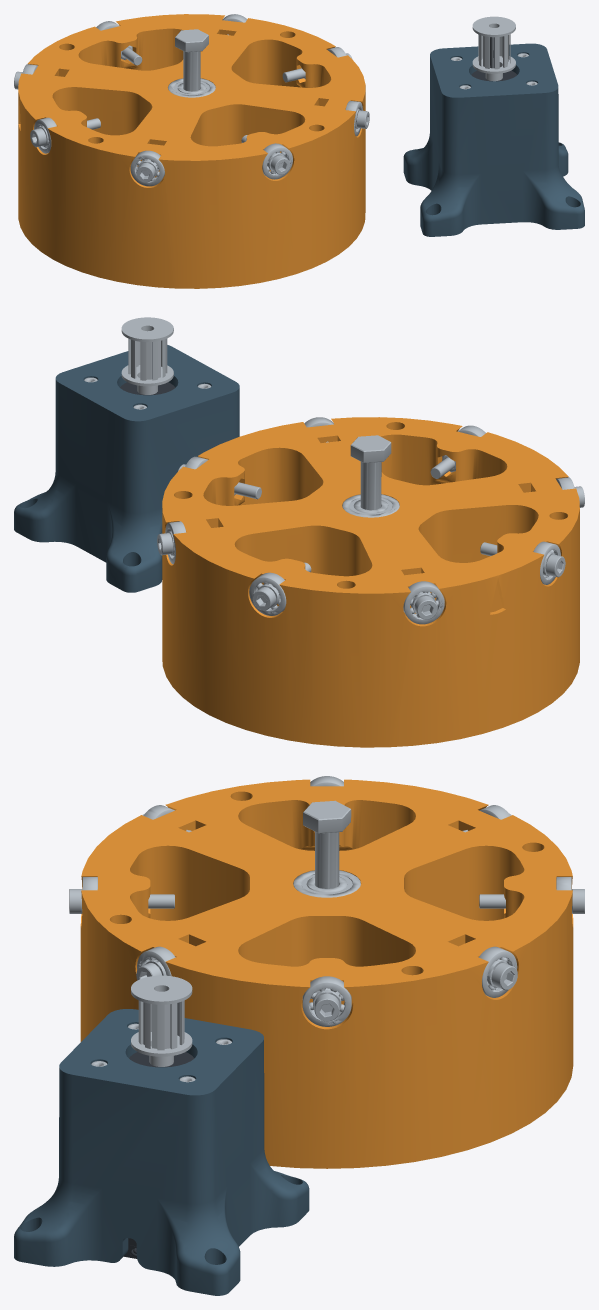
File: rotary_base_LOD0.fbx
3 renders of one model, top to bottom at view 1: azimuth 30°, elevation 25°; view 2: azimuth 150°, elevation 25°; view 3: azimuth 270°, elevation 25°, orthographic. The views are drawn at different scales.
Parts seen in each view (by area): view 1: MM_moveo_1m2a_8d0764d7ee, MM_moveo_1m3a_de6043b10f, MM_moveo_pulley_m5_34409c2623, MM_moveo_m8x65_af011daf64, MM_moveo_bearing_5mm_86ee2f6a5f, MM_moveo_bearing_5mm_d0635e659c, MM_moveo_8mm_bearing_3b9123d0f2, MM_moveo_m5x20_8f747c12b8, MM_moveo_nema_17_llarg_e19a1550cd, MM_moveo_bearing_5mm_4fff6ffe33; view 2: MM_moveo_1m2a_8d0764d7ee, MM_moveo_1m3a_de6043b10f, MM_moveo_pulley_m5_34409c2623, MM_moveo_m8x65_af011daf64, MM_moveo_bearing_5mm_0211c7ef3f, MM_moveo_bearing_5mm_f619cc72e2, MM_moveo_8mm_bearing_3b9123d0f2, MM_moveo_m5x20_8f747c12b8; view 3: MM_moveo_1m2a_8d0764d7ee, MM_moveo_1m3a_de6043b10f, MM_moveo_pulley_m5_34409c2623, MM_moveo_m8x65_af011daf64, MM_moveo_bearing_5mm_d355e518e5, MM_moveo_8mm_bearing_3b9123d0f2, MM_moveo_bearing_5mm_2abf87f7bf, MM_moveo_m5x20_bbadcfc89c, MM_moveo_m5x20_b5da2a3155.
Part boxes in pixels (x1,y1,x2,y2): MM_moveo_1m2a_8d0764d7ee: [18, 14, 365, 288]; MM_moveo_1m3a_de6043b10f: [403, 43, 584, 236]; MM_moveo_pulley_m5_34409c2623: [472, 16, 515, 81]; MM_moveo_m8x65_af011daf64: [175, 29, 208, 91]; MM_moveo_bearing_5mm_86ee2f6a5f: [130, 150, 164, 186]; MM_moveo_bearing_5mm_d0635e659c: [262, 143, 292, 179]; MM_moveo_8mm_bearing_3b9123d0f2: [168, 78, 215, 97]; MM_moveo_m5x20_8f747c12b8: [30, 118, 100, 147]; MM_moveo_nema_17_llarg_e19a1550cd: [471, 37, 516, 81]; MM_moveo_bearing_5mm_4fff6ffe33: [34, 117, 56, 153]; MM_moveo_1m2a_8d0764d7ee: [162, 417, 579, 747]; MM_moveo_1m3a_de6043b10f: [14, 345, 239, 592]; MM_moveo_pulley_m5_34409c2623: [121, 317, 173, 394]; MM_moveo_m8x65_af011daf64: [350, 435, 391, 510]; MM_moveo_bearing_5mm_0211c7ef3f: [403, 581, 444, 624]; MM_moveo_bearing_5mm_f619cc72e2: [249, 572, 286, 615]; MM_moveo_8mm_bearing_3b9123d0f2: [342, 494, 399, 517]; MM_moveo_m5x20_8f747c12b8: [480, 542, 565, 577]; MM_moveo_1m2a_8d0764d7ee: [80, 779, 573, 1168]; MM_moveo_1m3a_de6043b10f: [14, 1009, 309, 1295]; MM_moveo_pulley_m5_34409c2623: [131, 975, 192, 1066]; MM_moveo_m8x65_af011daf64: [303, 800, 351, 888]; MM_moveo_bearing_5mm_d355e518e5: [302, 976, 351, 1026]; MM_moveo_8mm_bearing_3b9123d0f2: [293, 870, 360, 897]; MM_moveo_bearing_5mm_2abf87f7bf: [478, 946, 517, 997]; MM_moveo_m5x20_bbadcfc89c: [69, 889, 174, 913]; MM_moveo_m5x20_b5da2a3155: [479, 889, 584, 913].
Bounding box in the file's own units: 0.2614 × 0.0913 × 0.1854.
